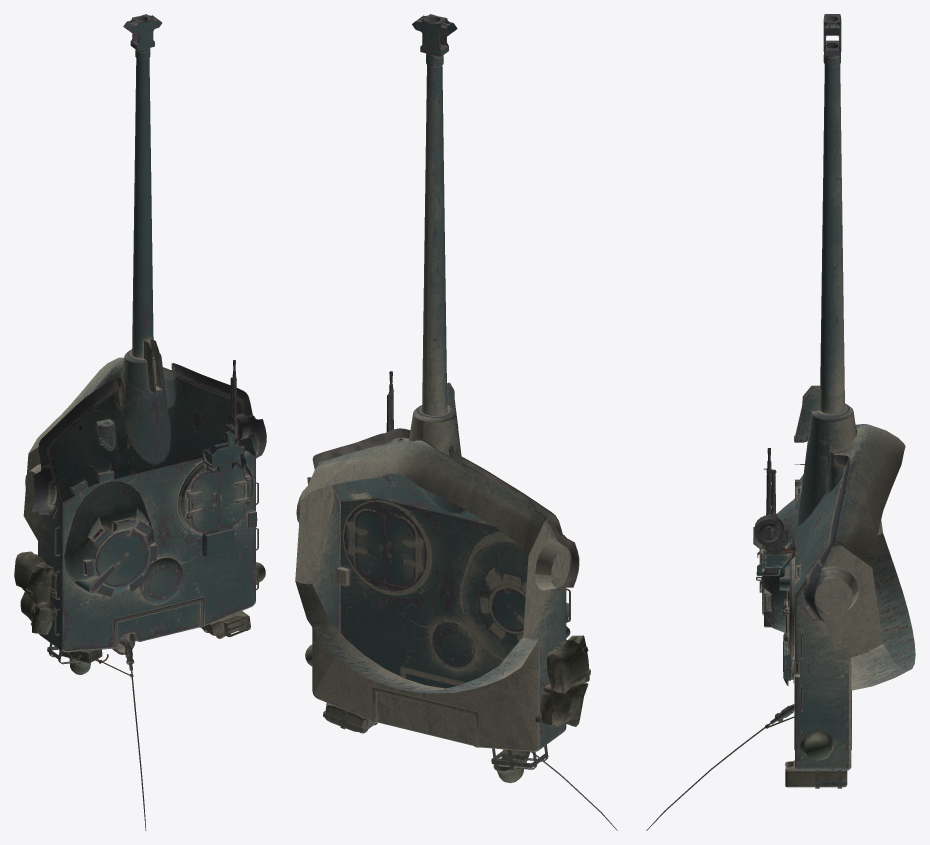
Rendered from Gun_01.glb.
3 views of the same model, side by side, from view 1: azimuth 30°, elevation 25°; view 2: azimuth 150°, elevation 25°; view 3: azimuth 270°, elevation 25° (orthographic). The views are drawn at different scales.
Parts seen in each view (by area): view 1: set_0_group_0; view 2: set_0_group_0; view 3: set_0_group_0.
Boxes of the visible parts, bbox=[...] form: set_0_group_0: bbox=[14, 14, 266, 830]; set_0_group_0: bbox=[295, 14, 617, 830]; set_0_group_0: bbox=[646, 14, 915, 830].
Bounding box in the file's own units: 2.45 × 7.16 × 2.04.
Materials: 1 (1 with a texture image).
